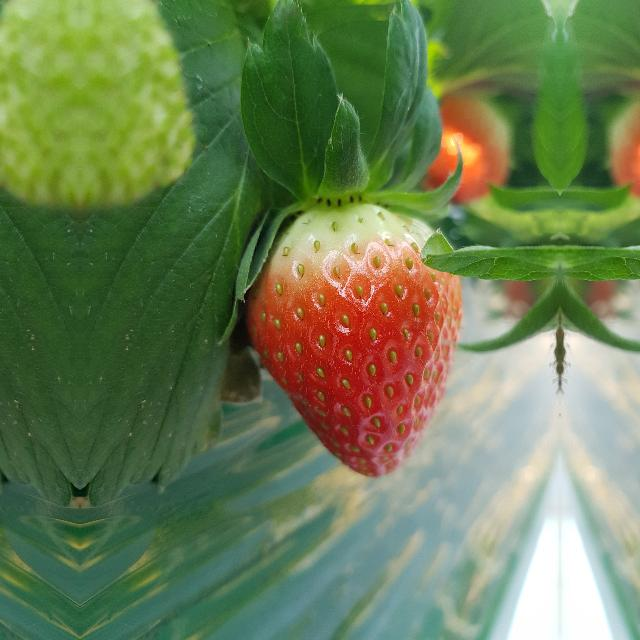Health_75: (243, 202, 464, 478)
